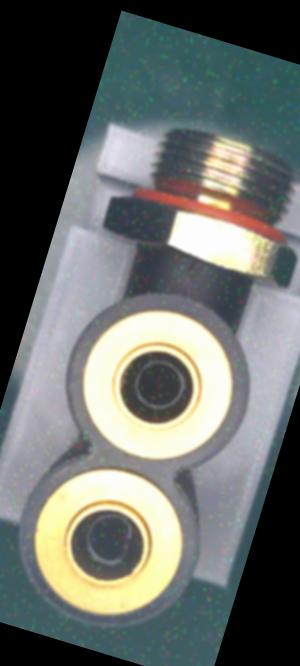craze: (179, 250, 206, 285)
off-centered: (69, 501, 145, 580)
